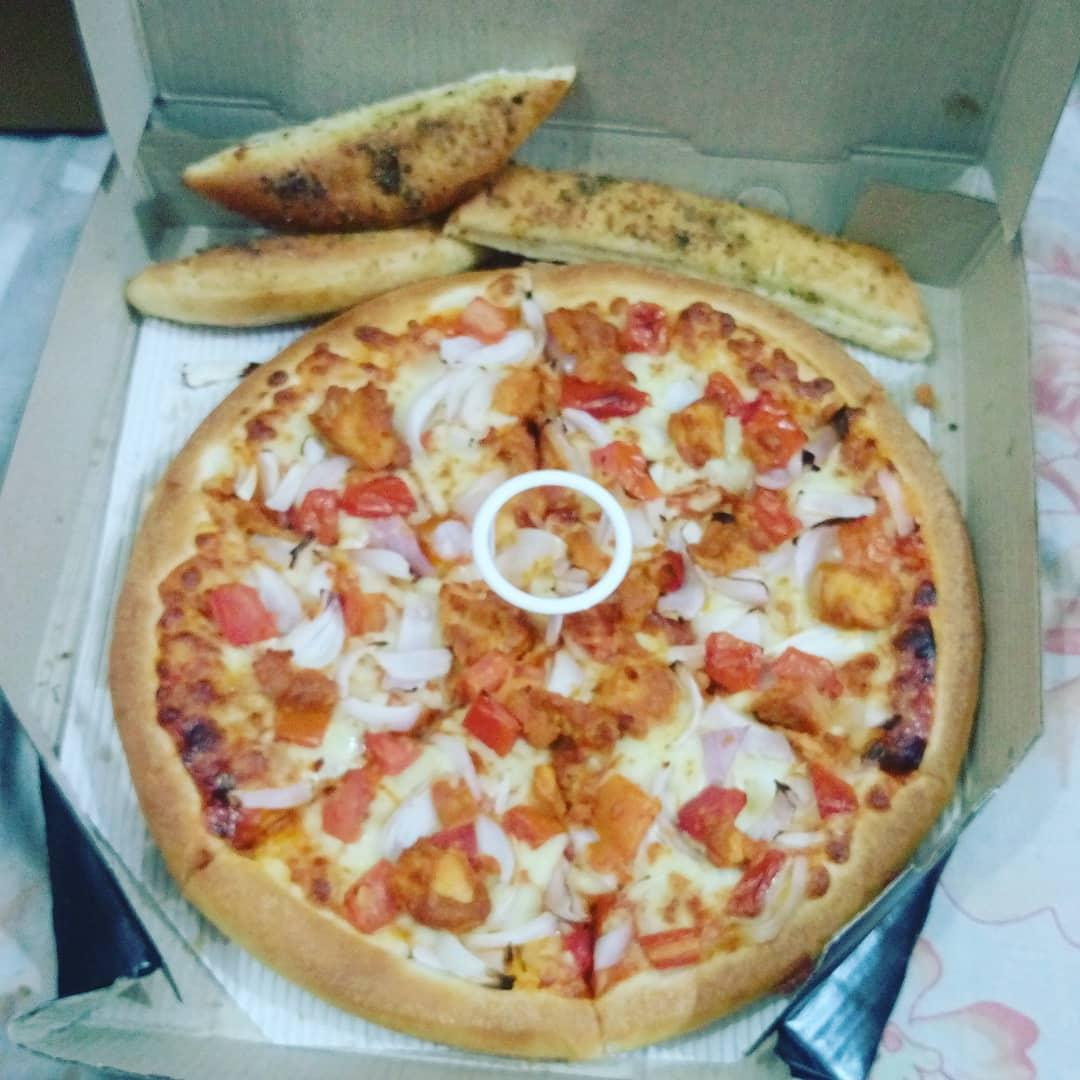Chicken: (525, 742, 661, 874), (311, 379, 422, 472), (487, 370, 580, 470), (814, 548, 910, 632), (400, 842, 493, 927), (593, 649, 684, 733), (542, 306, 631, 390), (429, 579, 531, 650), (510, 680, 612, 743), (660, 389, 732, 471), (679, 510, 754, 577), (327, 562, 391, 640)
Peppers: (253, 653, 335, 752), (199, 578, 290, 651), (309, 753, 377, 842), (334, 850, 402, 938), (590, 439, 667, 513), (702, 627, 775, 697), (741, 392, 808, 468), (725, 842, 789, 921), (667, 775, 749, 835), (456, 694, 529, 761), (771, 637, 846, 702), (553, 372, 650, 421), (803, 756, 867, 824), (742, 477, 801, 549), (335, 469, 421, 518), (610, 294, 675, 357), (631, 925, 709, 973), (353, 718, 424, 769), (459, 640, 515, 704), (291, 483, 342, 548), (455, 295, 511, 349), (699, 370, 750, 415), (643, 546, 690, 592)
Pizza: (110, 248, 993, 1072)
